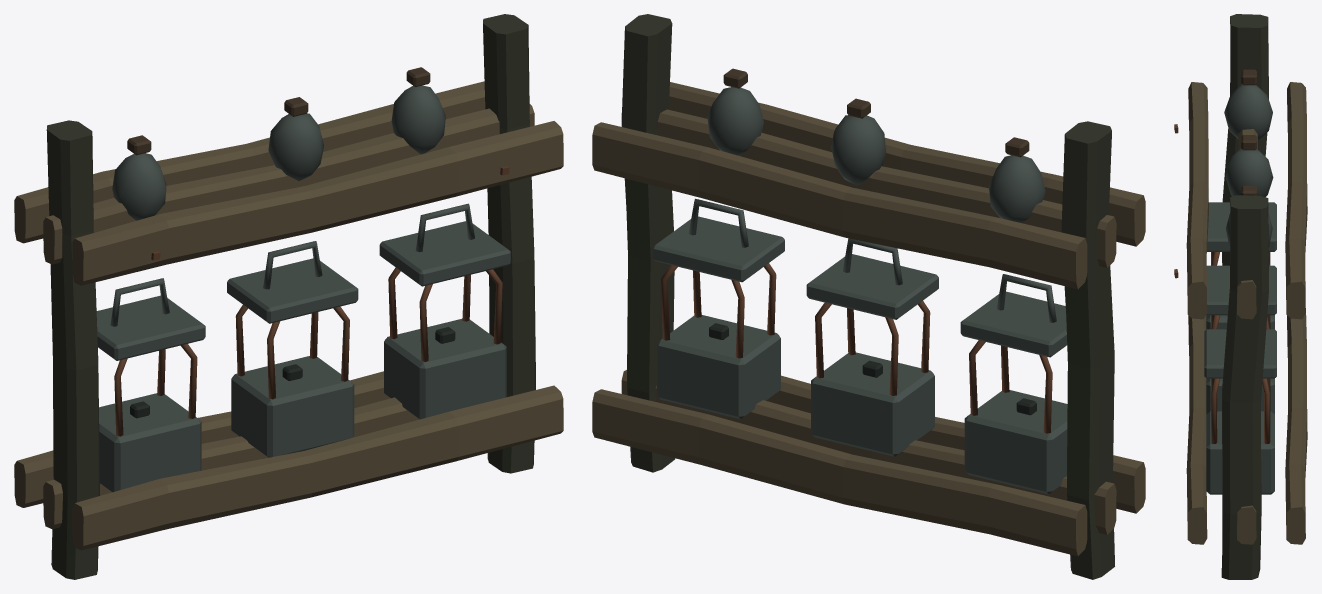
Rendered from lamp-store-fresh.glb.
3 views of the same model, side by side, from view 1: azimuth 30°, elevation 25°; view 2: azimuth 150°, elevation 25°; view 3: azimuth 270°, elevation 25° (orthographic). The views are drawn at different scales.
Parts seen in each view (by area): view 1: Surface; view 2: Surface; view 3: Surface.
Boxes of the visible parts, x1,y1,x2,y2 form: Surface: (14,14,563,579); Surface: (592,14,1145,579); Surface: (1174,14,1307,579).
Bounding box in the file's own units: 1.1 × 0.9569 × 0.3107.
